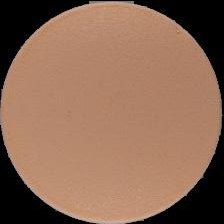55700-017: (0, 0, 224, 224)
